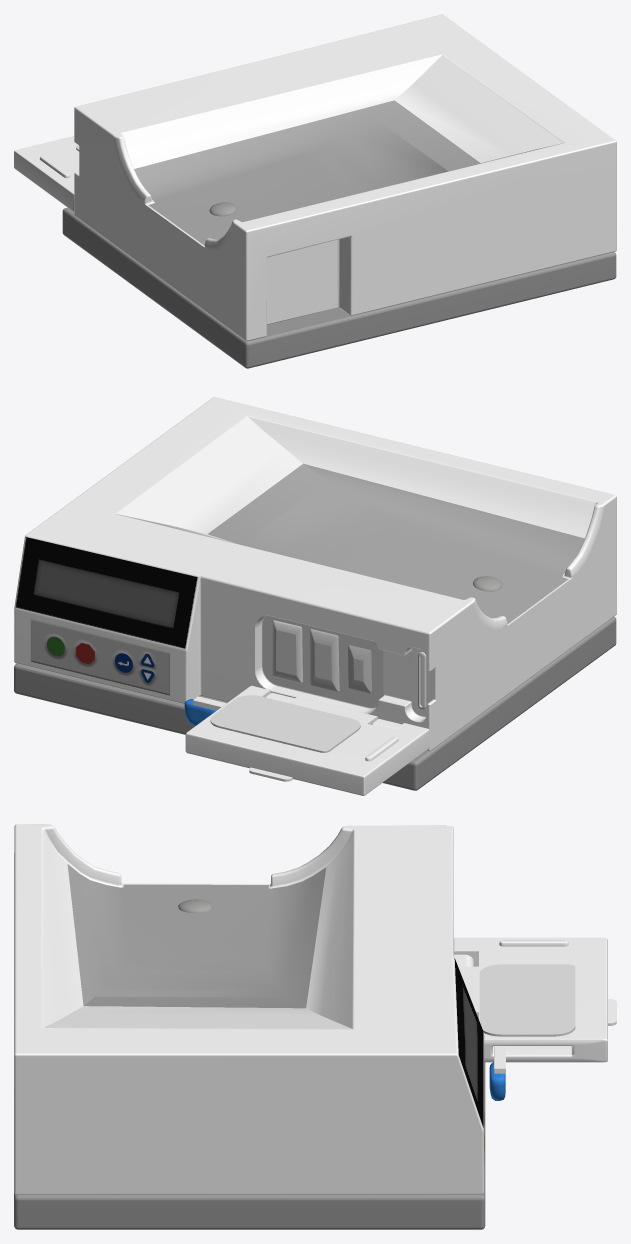
The model's file is APD_Machine_v2.glb.
3 renders of one model, top to bottom at view 1: azimuth 30°, elevation 25°; view 2: azimuth 150°, elevation 25°; view 3: azimuth 270°, elevation 25°, orthographic. The views are drawn at different scales.
Visible parts, largest first — view 1: DeviceDialysisReference; view 2: DeviceDialysisReference; view 3: DeviceDialysisReference.
Boxes of the visible parts, left/top/right/bottom form: DeviceDialysisReference: left=14, top=14, right=616, bottom=368; DeviceDialysisReference: left=14, top=397, right=616, bottom=795; DeviceDialysisReference: left=14, top=824, right=616, bottom=1229.
Bounding box in the file's own units: 16.99 × 6.06 × 18.72.
10 materials, 1 textured.
